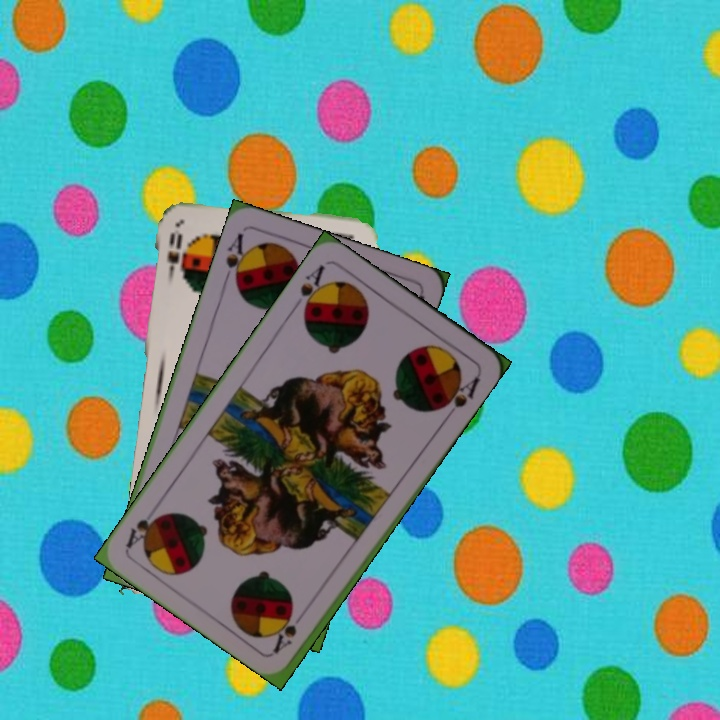SA: (289, 260, 329, 318), (269, 603, 311, 655), (219, 229, 253, 289)
SO: (163, 228, 188, 282)
